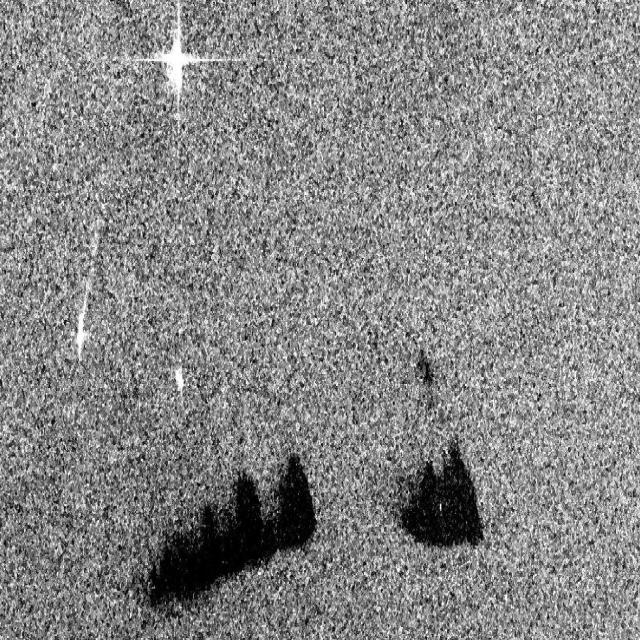oil-spill: (130, 454, 322, 626), (398, 436, 488, 561), (408, 345, 436, 394)
ship: (139, 6, 220, 113), (58, 290, 105, 372), (164, 348, 192, 408)
